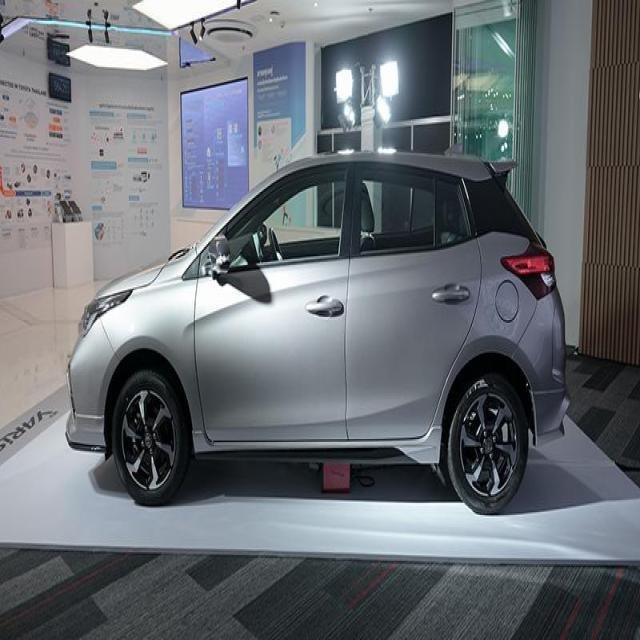Hatchback: (66, 155, 568, 513)
